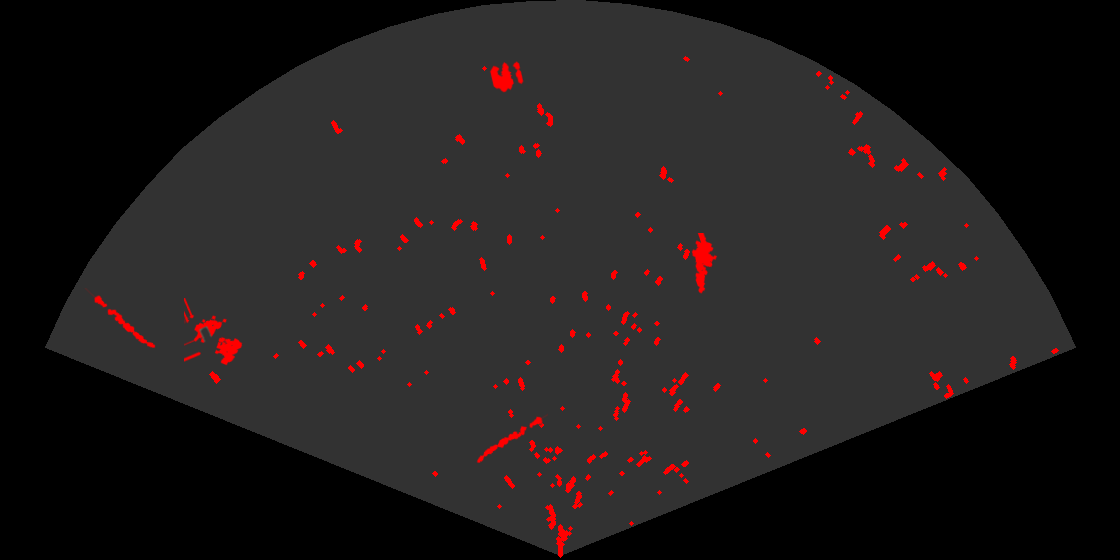ball: (488, 60, 525, 94)
cage: (184, 298, 244, 367)
chain: (83, 288, 157, 350), (475, 412, 548, 465)
frogman: (690, 233, 719, 296)
